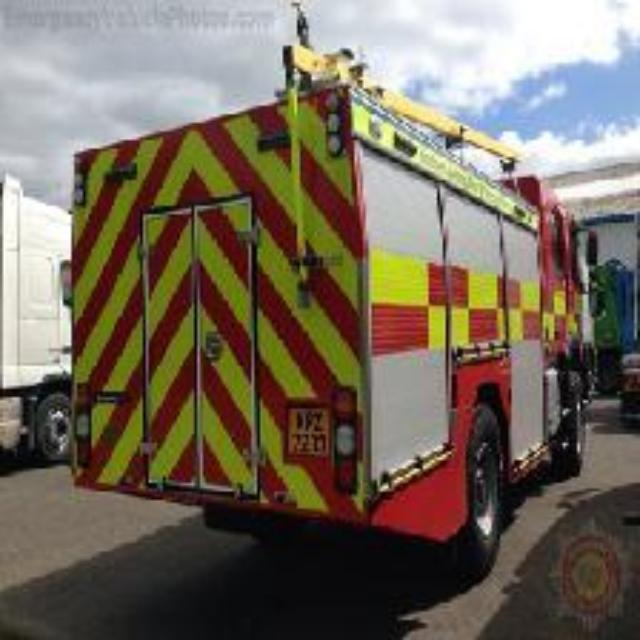emergency: (34, 65, 568, 573)
